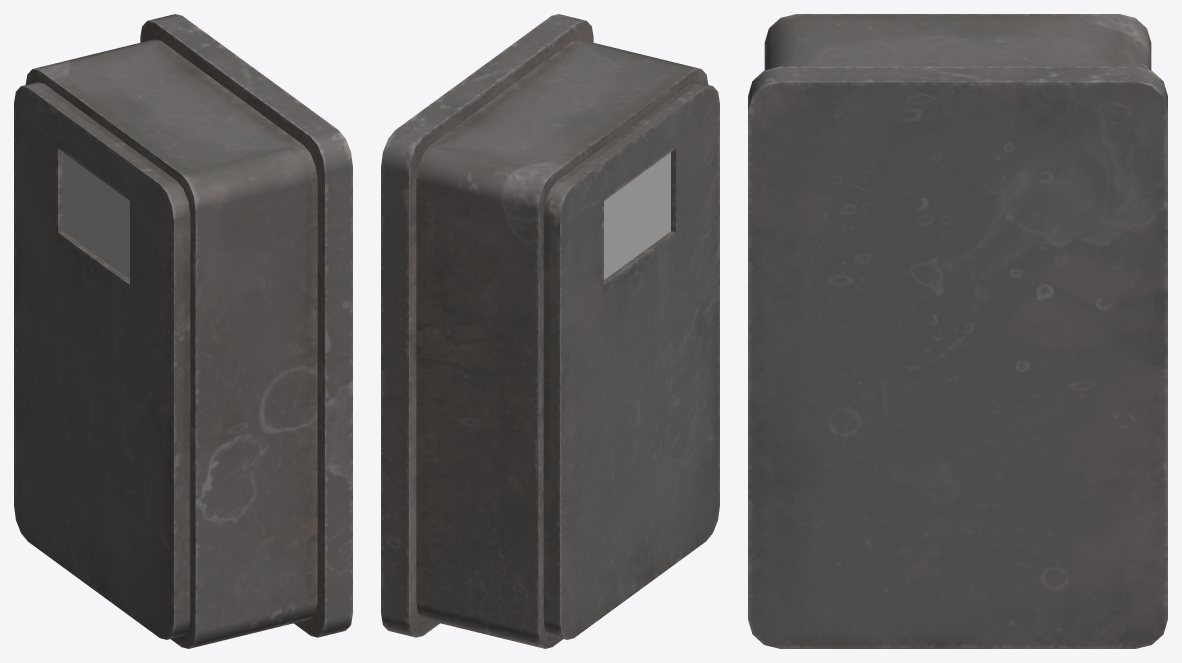
File: ElectricalMeter_C.fbx
3 renders of one model, left to right at view 1: azimuth 30°, elevation 25°; view 2: azimuth 150°, elevation 25°; view 3: azimuth 270°, elevation 25°, orthographic. The views are drawn at different scales.
Visible parts, largest first — view 1: ElectricalMeter_C; view 2: ElectricalMeter_C; view 3: ElectricalMeter_C.
Boxes of the visible parts, bbox=[...] form: ElectricalMeter_C: bbox=[14, 14, 352, 648]; ElectricalMeter_C: bbox=[381, 14, 719, 648]; ElectricalMeter_C: bbox=[748, 14, 1167, 648].
Bounding box in the file's own units: 10.9 × 31.18 × 20.93.
